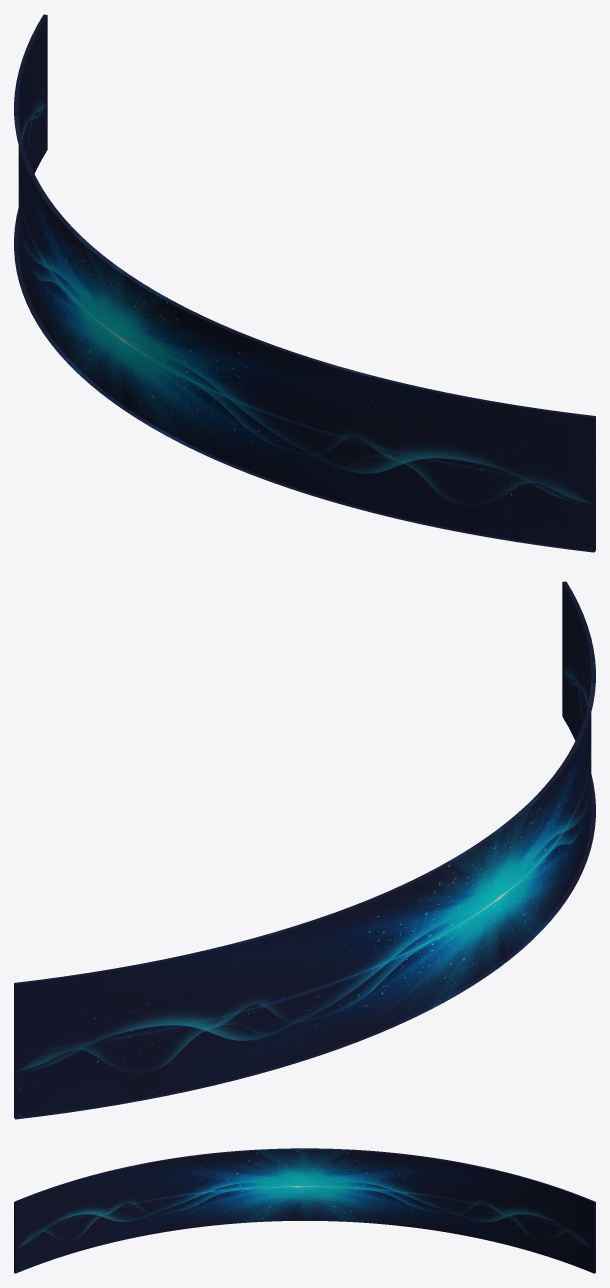
File: CD_JZ_vr_bigscreen01.FBX
The picture shows the model from 3 angles, top to bottom: view 1: azimuth 30°, elevation 25°; view 2: azimuth 150°, elevation 25°; view 3: azimuth 270°, elevation 25°; orthographic projection. The views are drawn at different scales.
Visible parts, largest first — view 1: CD_JZ_vr_bigscreen01; view 2: CD_JZ_vr_bigscreen01; view 3: CD_JZ_vr_bigscreen01.
Part boxes in pixels (left/top/right/bottom): CD_JZ_vr_bigscreen01: left=14, top=14, right=595, bottom=552; CD_JZ_vr_bigscreen01: left=14, top=581, right=595, bottom=1119; CD_JZ_vr_bigscreen01: left=14, top=1148, right=595, bottom=1273.
Bounding box in the file's own units: 644 × 395 × 2926.
